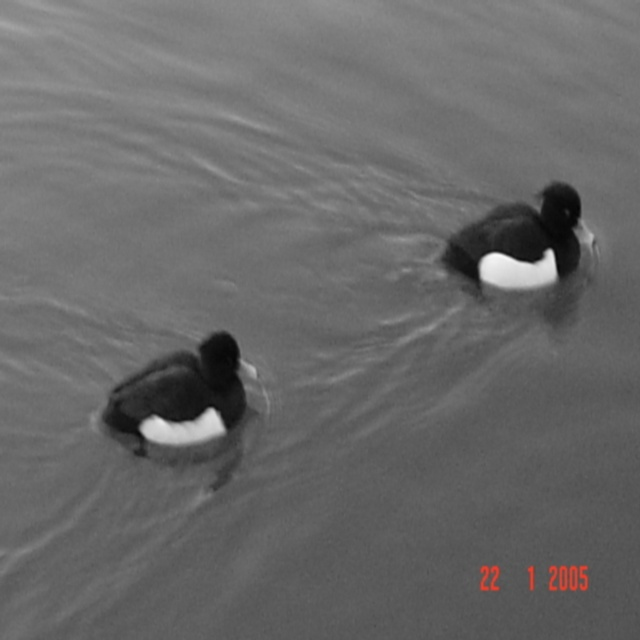Duck: (95, 328, 244, 457), (444, 187, 598, 296)
